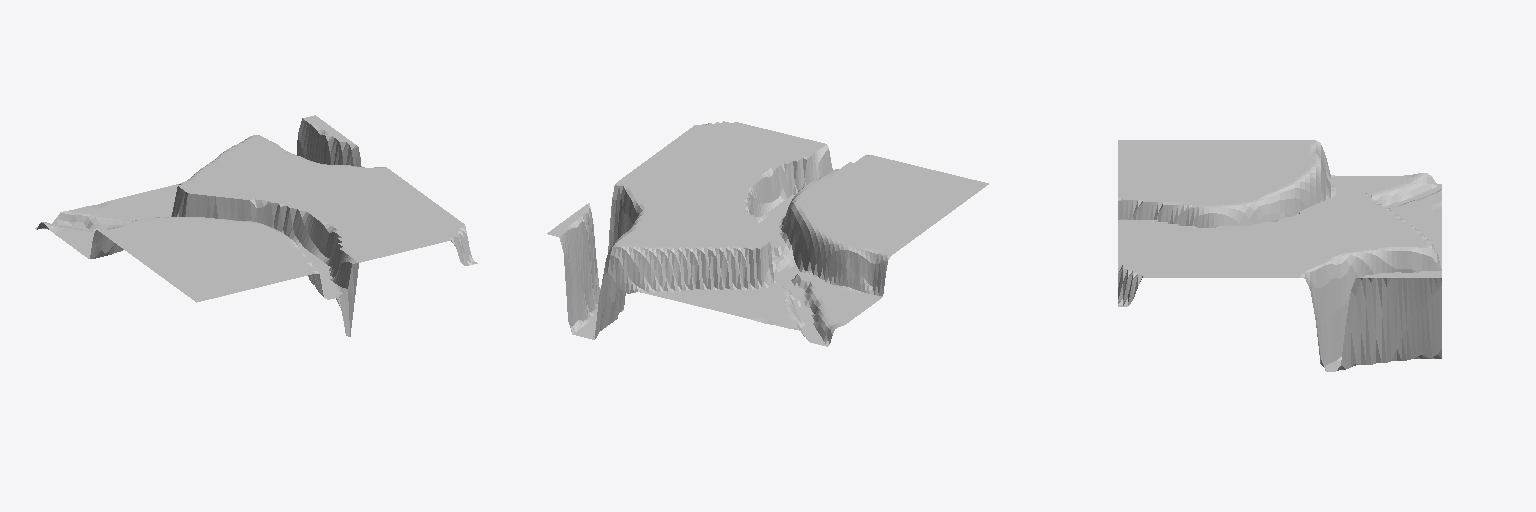
File: SM_Terrain_Tuto1Chunk0.2.obj
The picture shows the model from 3 angles: view 1: azimuth 30°, elevation 25°; view 2: azimuth 150°, elevation 25°; view 3: azimuth 270°, elevation 25°; orthographic projection.
Size of the model in its own units: 100 by 32.01 by 100.